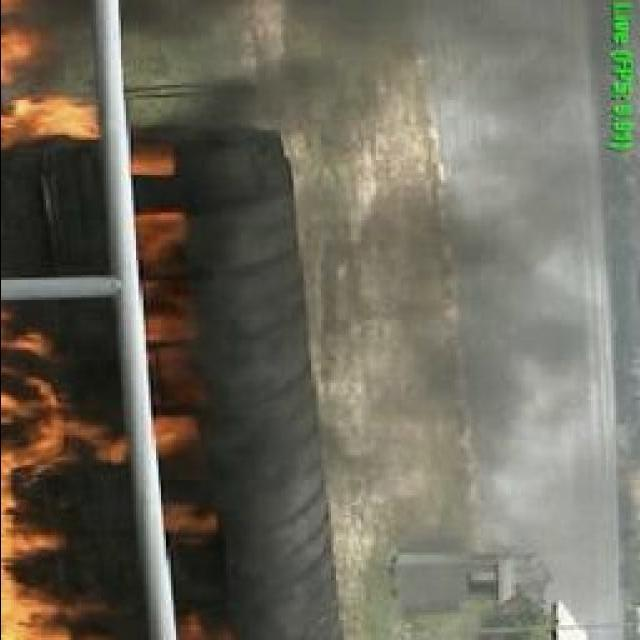Fire: (0, 312, 100, 640), (130, 149, 205, 346), (0, 2, 87, 150), (150, 369, 206, 566)
